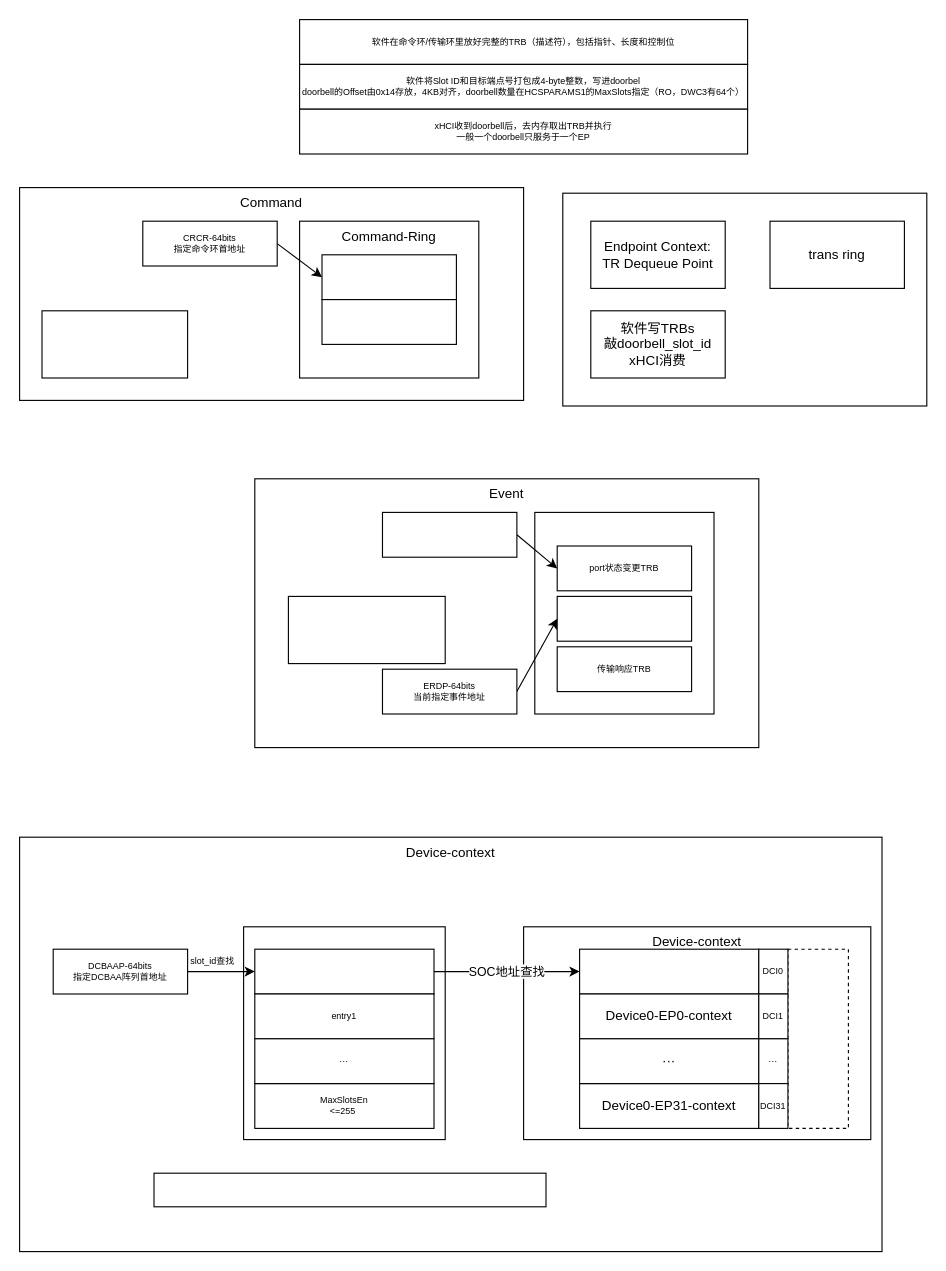
Some shapes in this 946 by 1271 pixel diagram are drawn without their labels. Each missing label, with the box of its shape:
1个doorbell对应一个Device-context-array的entry: (153, 1172, 546, 1207)
Address Device Command 仅枚举使用一次，获取device地址: (321, 298, 456, 344)
DCI= Device Context Index 当软件敲响command ring doorbell后，这段代码仅由xHCI维护: (787, 948, 848, 1128)
Device-context-arry: (242, 926, 445, 1140)
Enable Slot Command 添加Device,创建device?，slot-id先填0，由xHCI返回: (321, 254, 456, 300)
entry0 if(HCSPARAMS2-MAX-Scratchpad>0),指向Scratchpad buffer array: (254, 948, 434, 994)
ERSTBA-64bits 指定事件环首地址: (381, 511, 517, 557)
Event-Ring: (534, 511, 714, 714)
slot-context device设备信息，如地址: (578, 948, 759, 994)
Transfer: (562, 192, 927, 406)
xHCI回写事件 上报中断 软件消费: (287, 595, 445, 664)
命令响应TRB: (556, 595, 692, 641)
软件写Command-TRB 敲doorbell0 xHCI消费: (41, 310, 188, 378)
